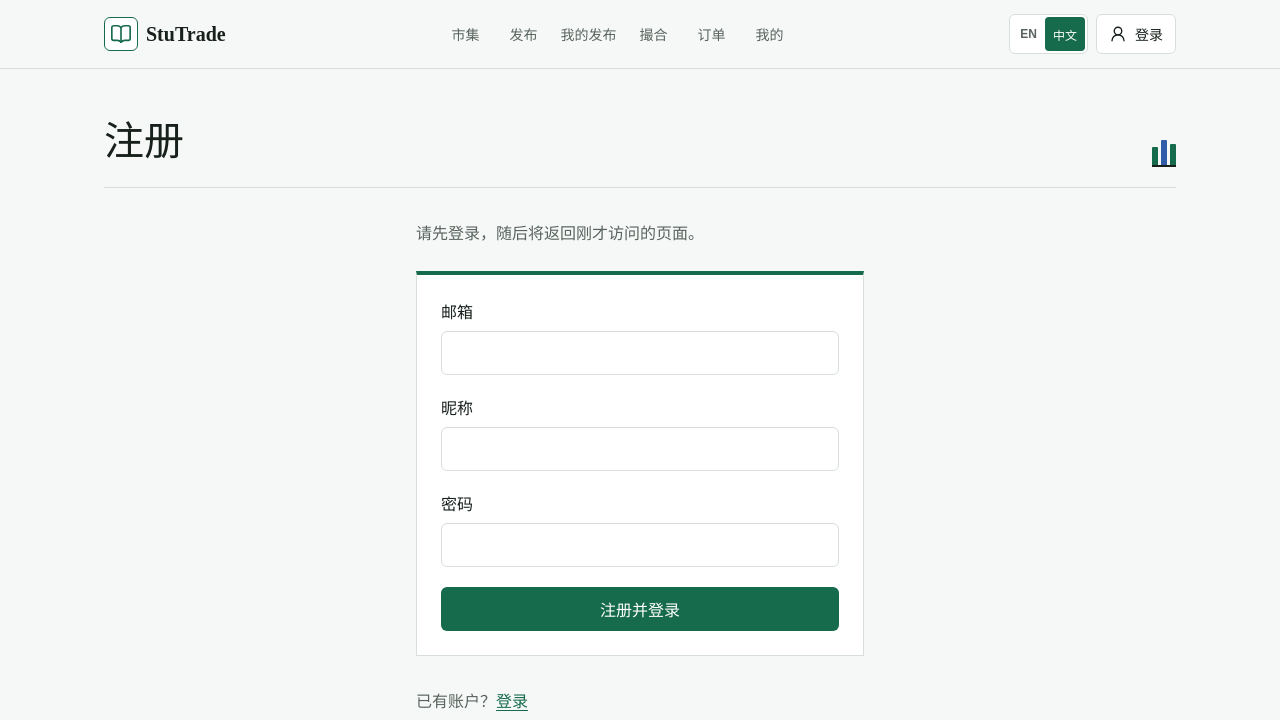
Test: authentication › registers a user and enters the authenticated target
Type "lin@example.edu" into the field labelled "邮箱" at (640, 353), box x1=441 y1=331 x2=839 y2=375
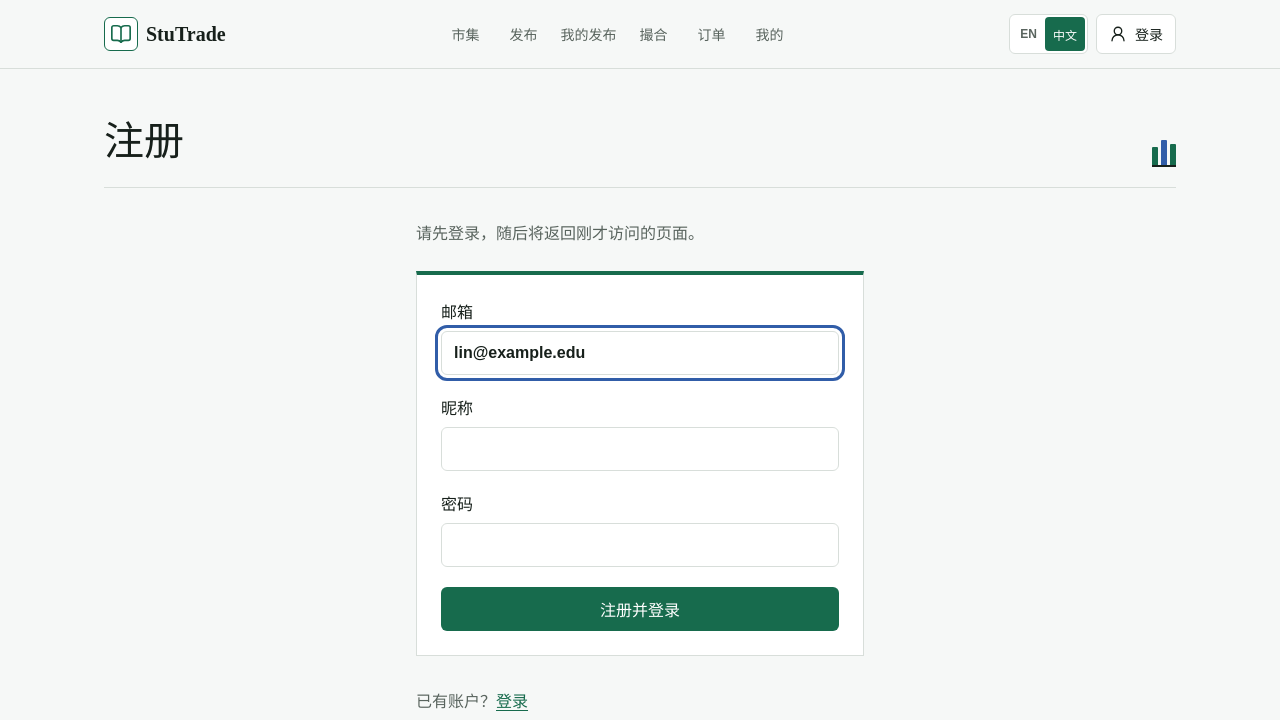
Type "林同学" into the field labelled "昵称" at (640, 449), box x1=441 y1=427 x2=839 y2=471
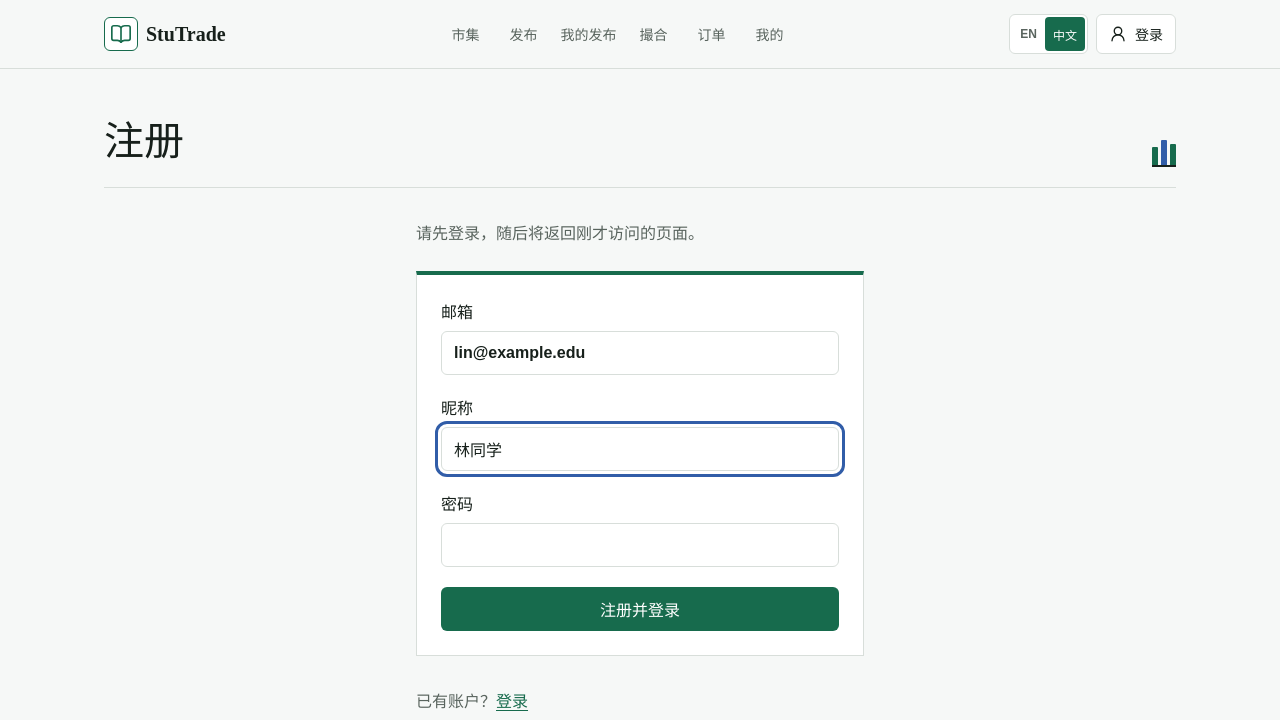
Type "secret123" into the password field labelled "密码" at (640, 545), box x1=441 y1=523 x2=839 y2=567
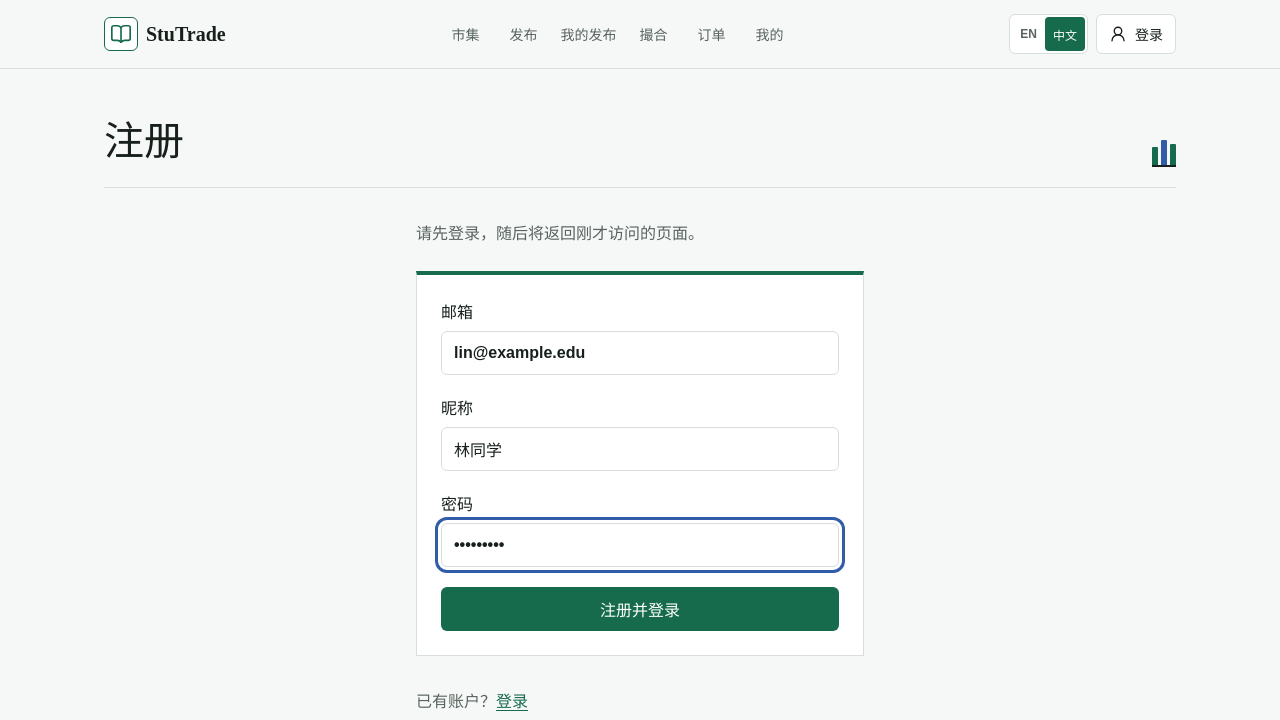
Click the button "注册并登录" at (640, 609), box x1=441 y1=587 x2=839 y2=631
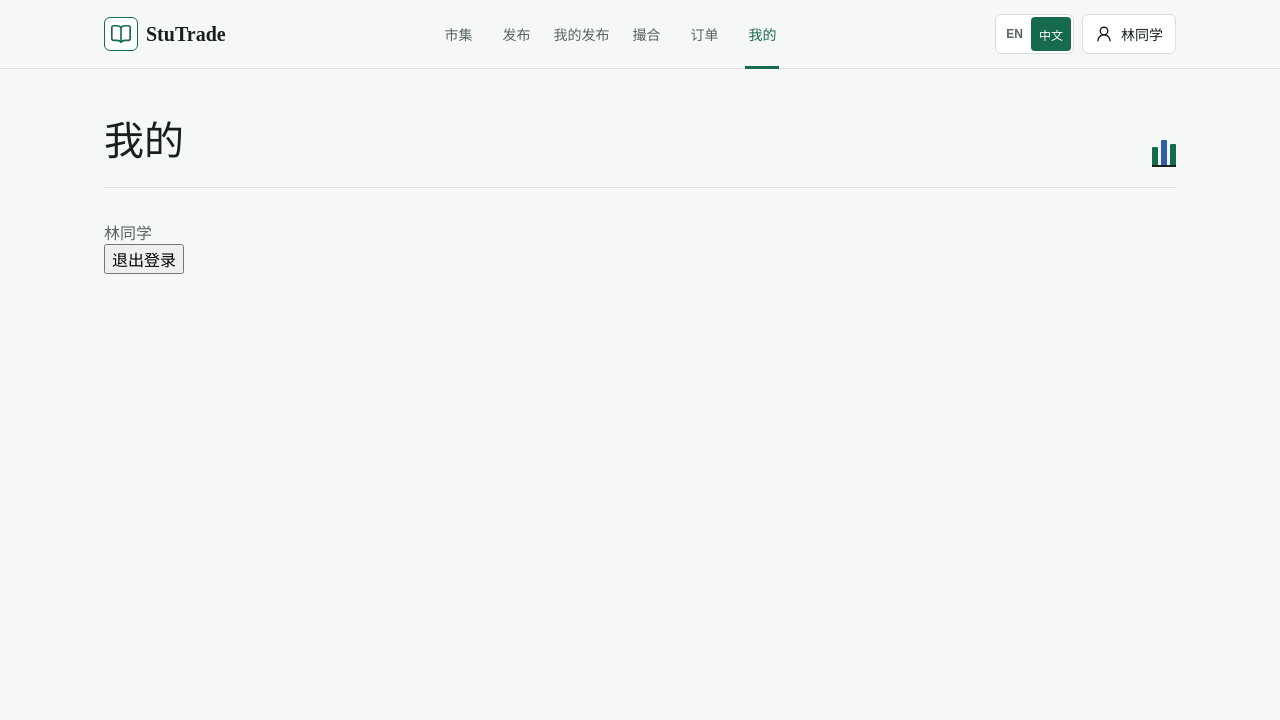
Expected: the heading "我的" is shown, x1=104 y1=117 x2=184 y2=167
Expected: the 2nd text "林同学" is shown, x1=104 y1=225 x2=152 y2=242
